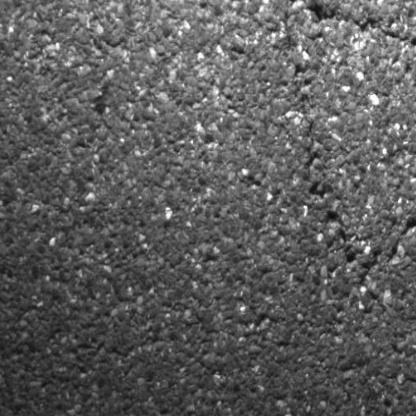Cracks: (278, 0, 416, 173), (385, 208, 416, 264), (385, 366, 416, 401)
